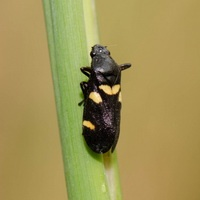insect: (78, 44, 130, 152)
